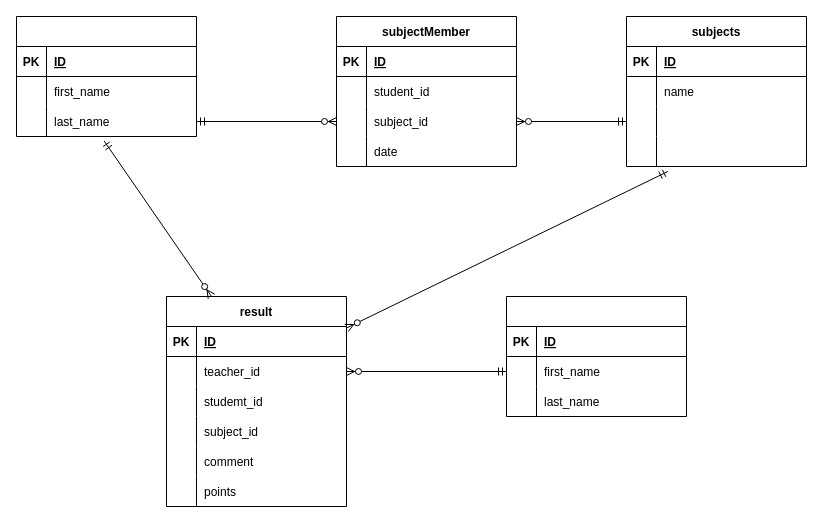
Image size: 823x523. Some labels were removed from this diagram. Each missing label, with the box of its shape:
student: (16, 16, 196, 136)
teacher: (506, 296, 686, 416)
